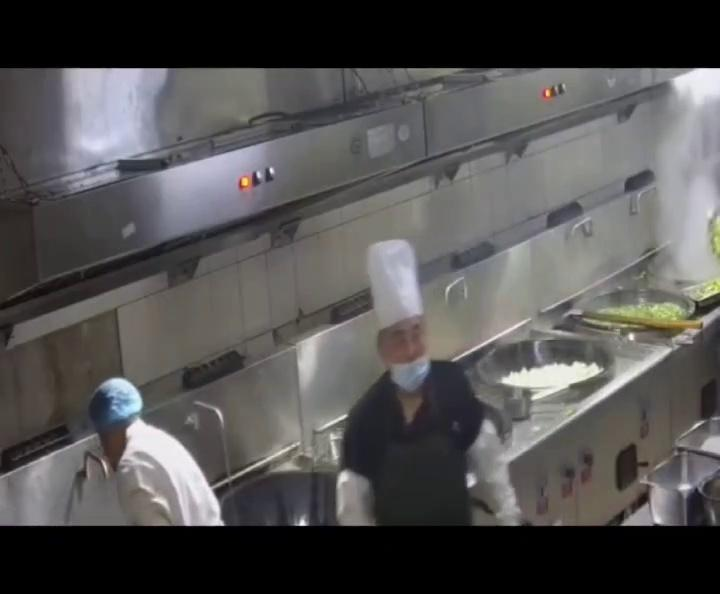gloves: (87, 375, 148, 438)
mask: (382, 332, 429, 388)
